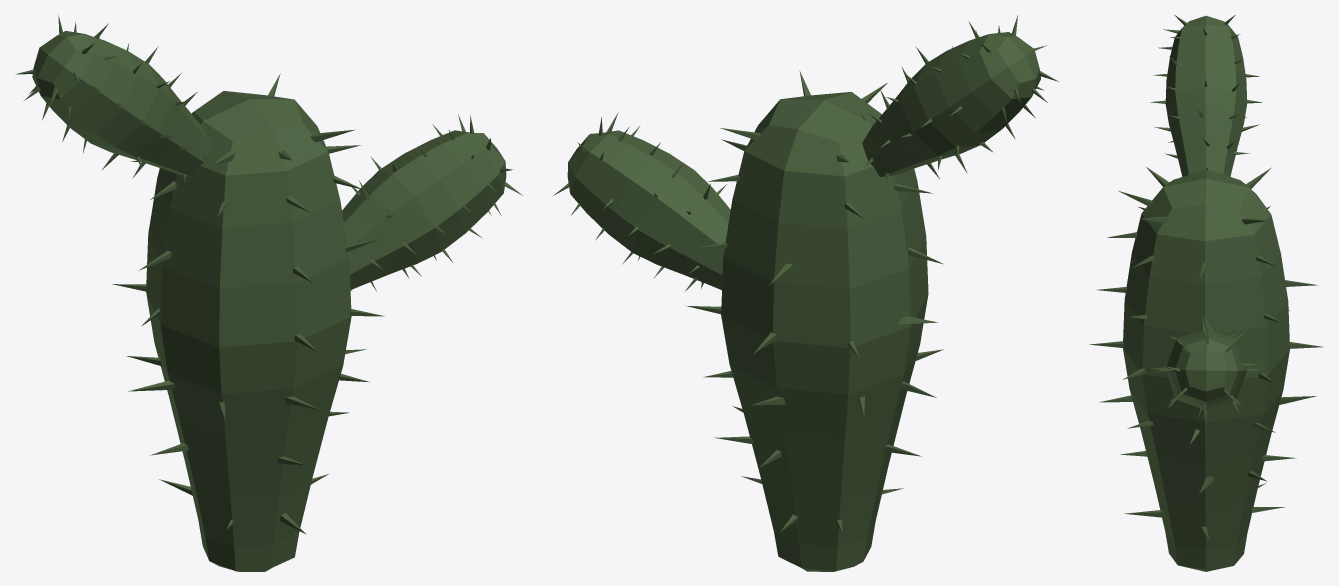
File: Cactus_Harvested.glb
3 renders of one model, left to right at view 1: azimuth 30°, elevation 25°; view 2: azimuth 150°, elevation 25°; view 3: azimuth 270°, elevation 25°, orthographic. The views are drawn at different scales.
Parts seen in each view (by area): view 1: Cactus_Harvested_Cube.034; view 2: Cactus_Harvested_Cube.034; view 3: Cactus_Harvested_Cube.034.
Part boxes in pixels (box(x1,y1,x2,y2)): Cactus_Harvested_Cube.034: box(15, 14, 522, 571); Cactus_Harvested_Cube.034: box(553, 15, 1058, 571); Cactus_Harvested_Cube.034: box(1089, 15, 1322, 571).
Bounding box in the file's own units: 1.09 × 1.26 × 0.5629.
